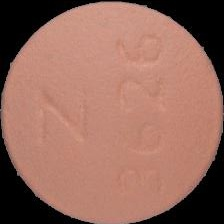53401-100: (0, 0, 224, 224)
